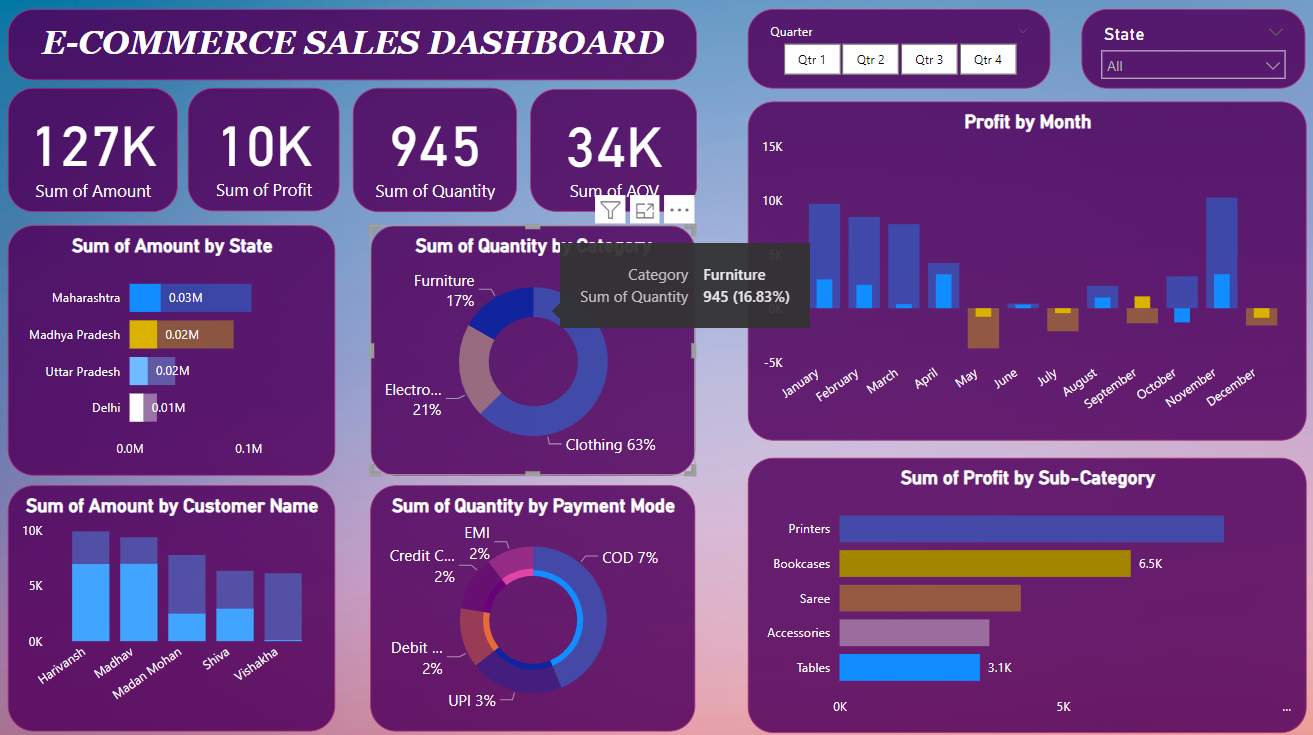

Layout of this report page (visuals, bound fields, positions):
{"tool":"powerbi","page":{"name":"Page 1","canvas":[1280,720],"ordinal":0},"visuals":[{"type":"textbox","box":[13.3,14.5,664.5,68.7],"z":0},{"type":"columnChart","title":"Profit by Month","fields":{"Category":["Orders.Order Date.Variation.Date Hierarchy.Month"],"Y":["Sum(Details.Profit)"]},"box":[727.2,103.7,539.1,326.8],"z":1000},{"type":"barChart","fields":{"Category":["Details.Sub-Category"],"Y":["Sum(Details.Profit)"]},"box":[726,445,539.1,266.5],"z":2000},{"type":"donutChart","fields":{"Category":["Details.Category"],"Y":["Sum(Details.Quantity)"]},"box":[363,223.1,313.6,241.2],"z":3000},{"type":"donutChart","title":"Sum of Quantity by Payment Mode","fields":{"Y":["Sum(Details.Quantity)"],"Category":["Details.PaymentMode"]},"box":[362.5,473.9,313.6,238.6],"z":4000},{"type":"card","fields":{"Values":["Sum(Details.Amount)"]},"box":[13,91,164,120],"z":5000},{"type":"card","fields":{"Values":["Sum(Details.Quantity)"]},"box":[346,90,158,120],"z":6000},{"type":"card","fields":{"Values":["Sum(Details.Profit)"]},"box":[187,91,146,119],"z":7000},{"type":"card","fields":{"Values":["Sum(Details.AOV)"]},"box":[517,92,161,118],"z":8000},{"type":"barChart","fields":{"Category":["Orders.State"],"Y":["Sum(Details.Amount)"]},"box":[13.3,223.1,316,241.2],"z":9000},{"type":"columnChart","title":"Sum of Amount by Customer Name","fields":{"Category":["Orders.CustomerName"],"Y":["Sum(Details.Amount)"]},"box":[13.6,473.9,315.9,238.6],"z":10000},{"type":"slicer","fields":{"Values":["Orders.Order Date.Variation.Date Hierarchy.Quarter"]},"box":[727.2,14.5,291.9,77.2],"z":11000},{"type":"slicer","fields":{"Values":["Orders.State"]},"box":[1049.2,14.5,215.9,77.2],"z":12000}]}

Visuals, with their boxes in screenshot pixels (x1, y1, x2, y2), scaled from the page's 1280x720 canvas onto the 1313x735 screenshot:
textbox: 14/15/695/85
"Profit by Month" columnChart: 746/106/1299/439
barChart - Details.Sub-Category x Sum(Details.Profit): 745/454/1298/726
donutChart - Details.Category x Sum(Details.Quantity): 372/228/694/474
"Sum of Quantity by Payment Mode" donutChart: 372/484/694/727
card - Sum(Details.Amount): 13/93/182/215
card - Sum(Details.Quantity): 355/92/517/214
card - Sum(Details.Profit): 192/93/342/214
card - Sum(Details.AOV): 530/94/695/214
barChart - Orders.State x Sum(Details.Amount): 14/228/338/474
"Sum of Amount by Customer Name" columnChart: 14/484/338/727
slicer - Orders.Order Date.Variation.Date Hierarchy.Quarter: 746/15/1045/94
slicer - Orders.State: 1076/15/1298/94
